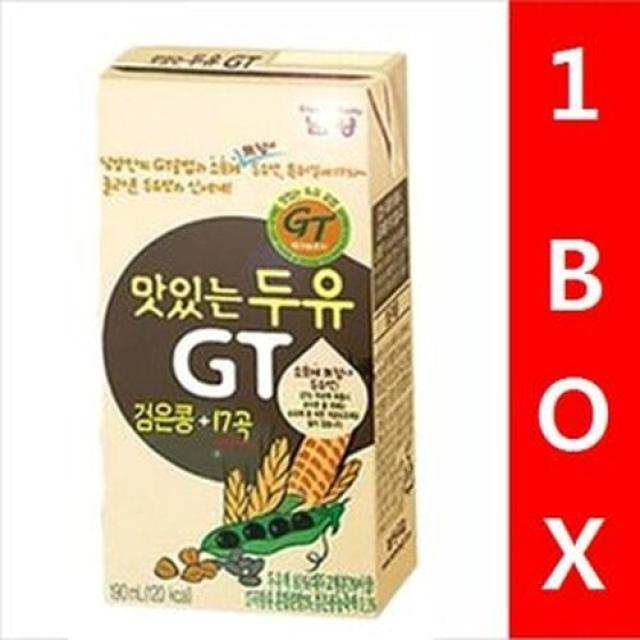Tetra: (70, 25, 436, 622)
